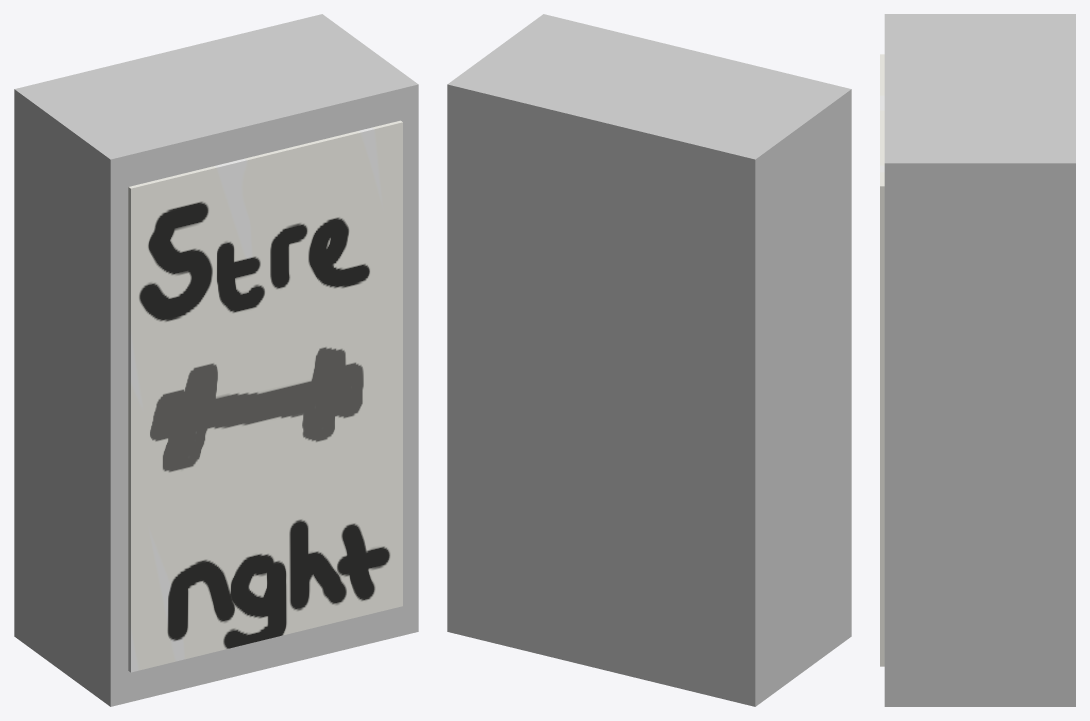
Rendered from Strenght Upgrade.glb.
3 views of the same model, side by side, from view 1: azimuth 30°, elevation 25°; view 2: azimuth 150°, elevation 25°; view 3: azimuth 270°, elevation 25° (orthographic).
Parts seen in each view (by area): view 1: Cube.001, Cube; view 2: Cube; view 3: Cube, Cube.001.
Part boxes in pixels (box(x1,y1,x2,y2)): Cube.001: box(128, 120, 402, 672); Cube: box(14, 14, 418, 706); Cube: box(447, 14, 851, 706); Cube: box(884, 14, 1075, 706); Cube.001: box(880, 54, 884, 666).
Bounding box in the file's own units: 1.07 × 1.81 × 0.5908.
2 materials, 1 textured.
